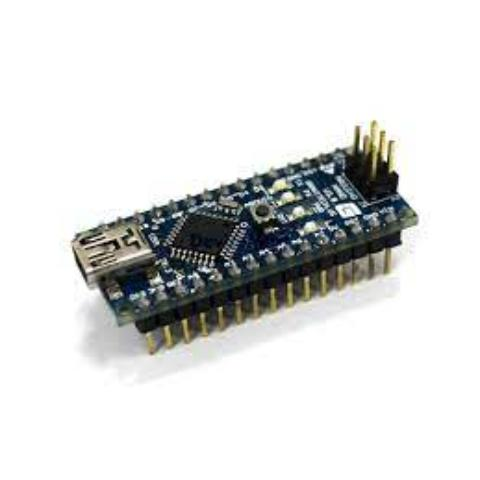Arduino-Nano: (65, 114, 426, 358)
